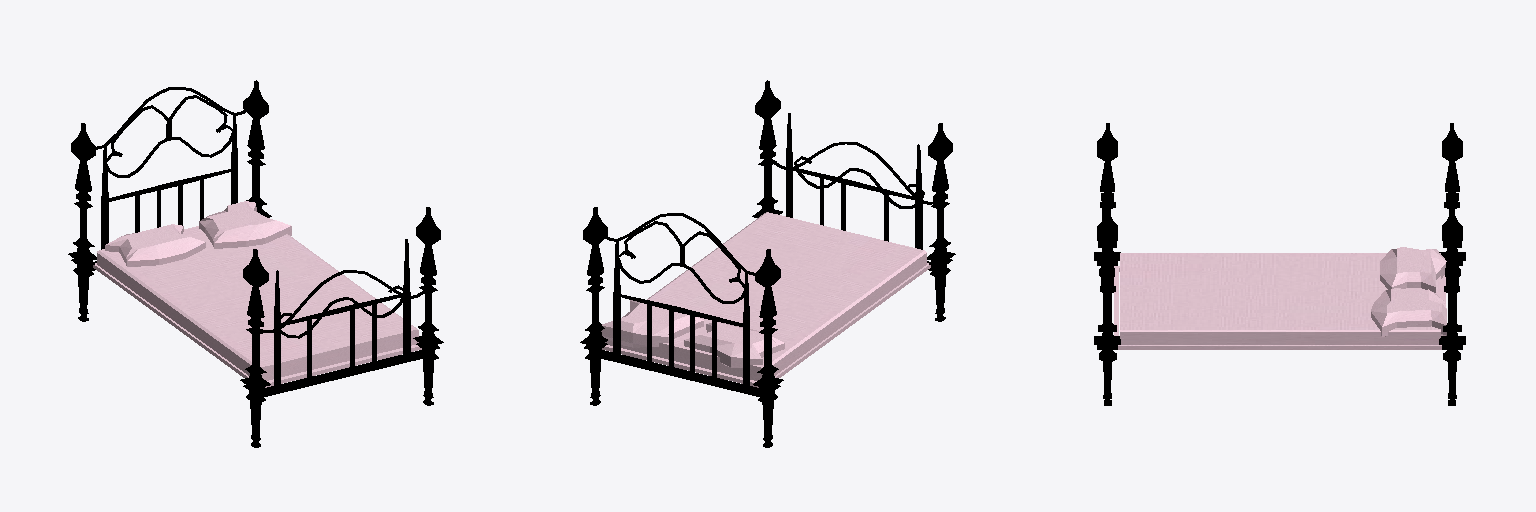
3 renders of one model, left to right at view 1: azimuth 30°, elevation 25°; view 2: azimuth 150°, elevation 25°; view 3: azimuth 270°, elevation 25°, orthographic.
Visible parts, largest first — view 1: Cama:Lower_Bed Cama:The_Bed Cama:group3 Cama:polyToSubd38 polySu, Cama:Back Cama:The_Bed Cama:polySurface15 polySurface172, Cama:Front Cama:The_Bed Cama:polySurface10 polySurface172, Cama:Pilow Cama:The_Bed Cama:polyToSubd1 polySurface172, Cama:Back Cama:The_Bed Cama:polySurface11 polySurface172, Cama:Pilow Cama:The_Bed Cama:polyToSubd40 polySurface172, Cama:Front Cama:The_Bed Cama:polySurface9 polySurface172, Cama:Front Cama:The_Bed Cama:polySurface8 polySurface172, Cama:Lower_Bed Cama:The_Bed Cama:pCube1 polySurface172, Cama:Back Cama:The_Bed Cama:polyToSubd5 polySurface172, Cama:Back Cama:The_Bed Cama:polySurface13 polySurface172; view 2: Cama:Lower_Bed Cama:The_Bed Cama:group3 Cama:polyToSubd38 polySu, Cama:Front Cama:The_Bed Cama:polySurface10 polySurface172, Cama:Back Cama:The_Bed Cama:polySurface15 polySurface172, Cama:Front Cama:The_Bed Cama:polySurface9 polySurface172, Cama:Back Cama:The_Bed Cama:polySurface11 polySurface172, Cama:Pilow Cama:The_Bed Cama:polyToSubd1 polySurface172, Cama:Pilow Cama:The_Bed Cama:polyToSubd40 polySurface172, Cama:Front Cama:The_Bed Cama:polySurface8 polySurface172, Cama:Lower_Bed Cama:The_Bed Cama:pCube1 polySurface172, Cama:Front Cama:The_Bed Cama:polyToSubd5 polySurface172, Cama:Back Cama:The_Bed Cama:polySurface13 polySurface172; view 3: Cama:Lower_Bed Cama:The_Bed Cama:group3 Cama:polyToSubd38 polySu, Cama:Back Cama:The_Bed Cama:polySurface15 polySurface172, Cama:Front Cama:The_Bed Cama:polySurface10 polySurface172, Cama:Pilow Cama:The_Bed Cama:polyToSubd1 polySurface172, Cama:Pilow Cama:The_Bed Cama:polyToSubd40 polySurface172, Cama:Lower_Bed Cama:The_Bed Cama:pCube1 polySurface172.
Boxes of the visible parts, x1=… form: Cama:Lower_Bed Cama:The_Bed Cama:group3 Cama:polyToSubd38 polySu: x1=97, y1=213, x2=418, y2=380; Cama:Back Cama:The_Bed Cama:polySurface15 polySurface172: x1=240, y1=207, x2=443, y2=447; Cama:Front Cama:The_Bed Cama:polySurface10 polySurface172: x1=68, y1=80, x2=271, y2=321; Cama:Pilow Cama:The_Bed Cama:polyToSubd1 polySurface172: x1=199, y1=201, x2=291, y2=248; Cama:Back Cama:The_Bed Cama:polySurface11 polySurface172: x1=274, y1=239, x2=410, y2=388; Cama:Pilow Cama:The_Bed Cama:polyToSubd40 polySurface172: x1=105, y1=224, x2=205, y2=266; Cama:Front Cama:The_Bed Cama:polySurface9 polySurface172: x1=101, y1=116, x2=237, y2=249; Cama:Front Cama:The_Bed Cama:polySurface8 polySurface172: x1=96, y1=87, x2=249, y2=177; Cama:Lower_Bed Cama:The_Bed Cama:pCube1 polySurface172: x1=93, y1=263, x2=421, y2=387; Cama:Back Cama:The_Bed Cama:polyToSubd5 polySurface172: x1=263, y1=350, x2=426, y2=396; Cama:Back Cama:The_Bed Cama:polySurface13 polySurface172: x1=258, y1=270, x2=430, y2=338; Cama:Lower_Bed Cama:The_Bed Cama:group3 Cama:polyToSubd38 polySu: x1=605, y1=212, x2=926, y2=380; Cama:Front Cama:The_Bed Cama:polySurface10 polySurface172: x1=580, y1=207, x2=783, y2=447; Cama:Back Cama:The_Bed Cama:polySurface15 polySurface172: x1=752, y1=80, x2=955, y2=321; Cama:Front Cama:The_Bed Cama:polySurface9 polySurface172: x1=613, y1=242, x2=749, y2=388; Cama:Back Cama:The_Bed Cama:polySurface11 polySurface172: x1=786, y1=113, x2=922, y2=249; Cama:Pilow Cama:The_Bed Cama:polyToSubd1 polySurface172: x1=601, y1=300, x2=703, y2=347; Cama:Pilow Cama:The_Bed Cama:polyToSubd40 polySurface172: x1=684, y1=322, x2=784, y2=367; Cama:Front Cama:The_Bed Cama:polySurface8 polySurface172: x1=602, y1=213, x2=754, y2=303; Cama:Lower_Bed Cama:The_Bed Cama:pCube1 polySurface172: x1=602, y1=263, x2=930, y2=387; Cama:Front Cama:The_Bed Cama:polyToSubd5 polySurface172: x1=597, y1=350, x2=760, y2=396; Cama:Back Cama:The_Bed Cama:polySurface13 polySurface172: x1=773, y1=142, x2=936, y2=208; Cama:Lower_Bed Cama:The_Bed Cama:group3 Cama:polyToSubd38 polySu: x1=1120, y1=253, x2=1440, y2=344; Cama:Back Cama:The_Bed Cama:polySurface15 polySurface172: x1=1094, y1=123, x2=1120, y2=405; Cama:Front Cama:The_Bed Cama:polySurface10 polySurface172: x1=1439, y1=123, x2=1465, y2=405; Cama:Pilow Cama:The_Bed Cama:polyToSubd1 polySurface172: x1=1371, y1=288, x2=1446, y2=336; Cama:Pilow Cama:The_Bed Cama:polyToSubd40 polySurface172: x1=1380, y1=247, x2=1446, y2=292; Cama:Lower_Bed Cama:The_Bed Cama:pCube1 polySurface172: x1=1114, y1=266, x2=1445, y2=349.
Bounding box in the file's own units: 28.03 × 29.61 × 47.
2 materials, 1 textured.